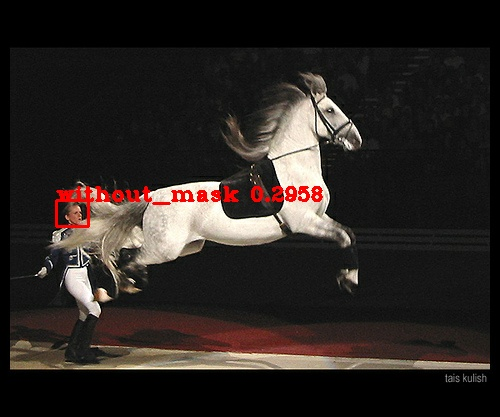without_mask: (62, 202, 84, 226)
